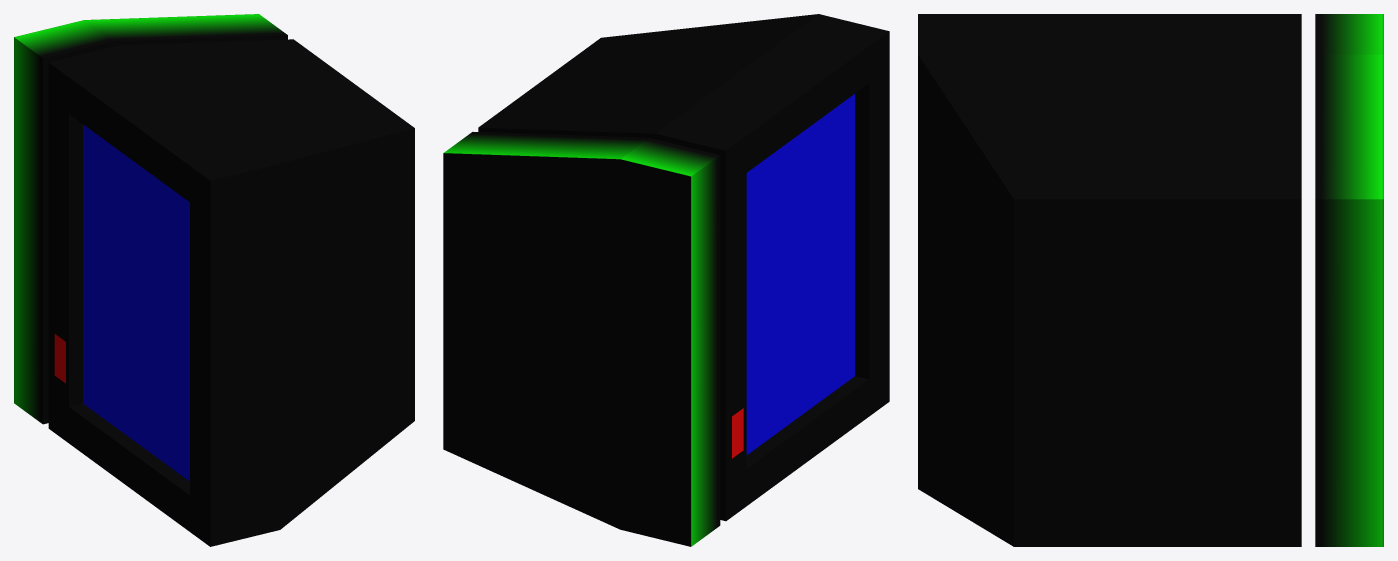
Rendered from desk_screen.fbx.
3 views of the same model, side by side, from view 1: azimuth 30°, elevation 25°; view 2: azimuth 150°, elevation 25°; view 3: azimuth 270°, elevation 25° (orthographic). The views are drawn at different scales.
Visible parts, largest first — view 1: Cube_001; view 2: Cube_001; view 3: Cube_001.
Boxes of the visible parts, x1=… form: Cube_001: x1=14, y1=14, x2=414, y2=546; Cube_001: x1=443, y1=14, x2=889, y2=546; Cube_001: x1=918, y1=14, x2=1383, y2=546.
Size of the model in its own units: 0.245 by 0.35 by 0.34.
1 material, 1 textured.
